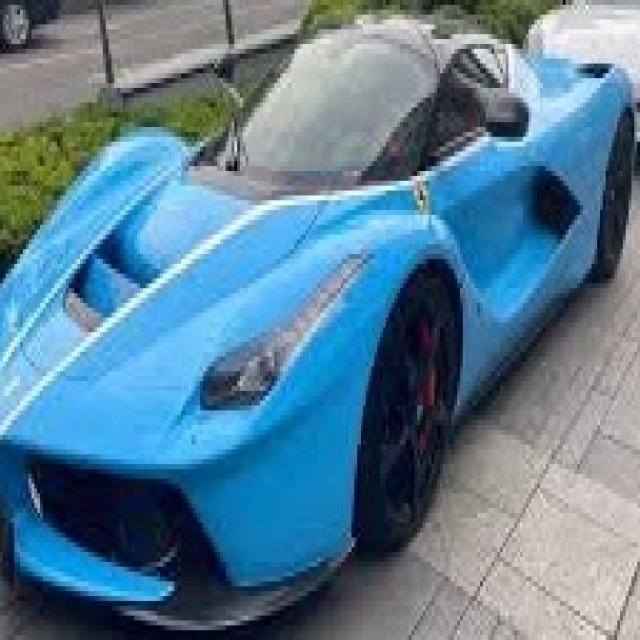blue: (2, 25, 640, 599)
